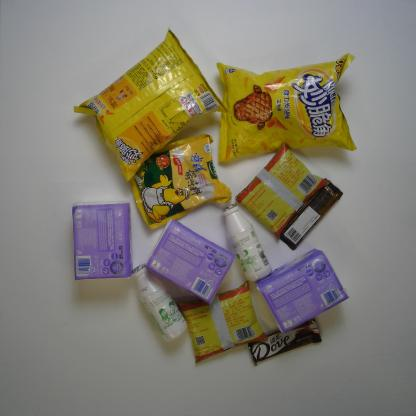Chocolate: (277, 176, 345, 252), (247, 316, 325, 367)
Milk: (124, 261, 190, 344), (219, 200, 274, 284)
Puffed Food: (66, 25, 235, 185), (209, 50, 362, 165)
Seasoner: (126, 132, 234, 232), (234, 139, 332, 241), (176, 278, 271, 365)
Tissue: (252, 246, 351, 336), (142, 217, 238, 306), (68, 198, 135, 285)
